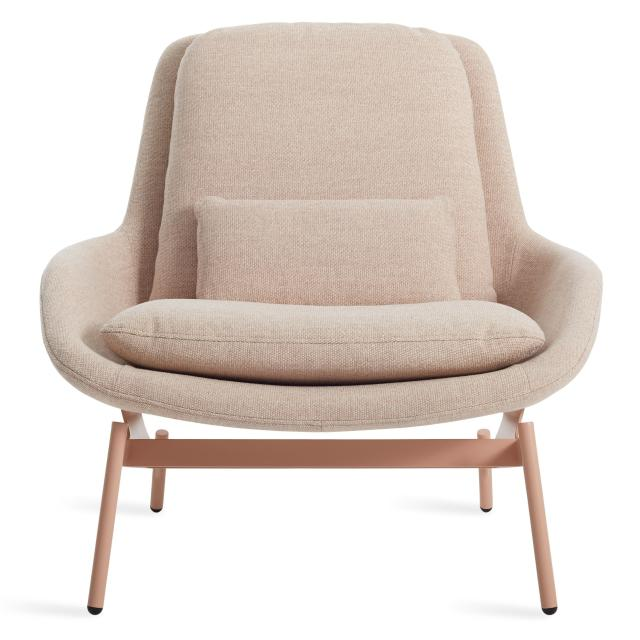chair: (10, 1, 639, 640)
